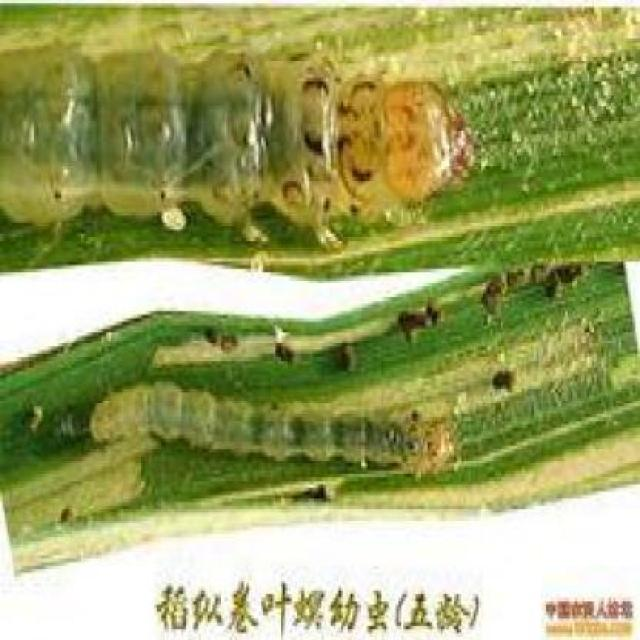leaf-folder: (32, 25, 486, 267), (94, 364, 483, 494)
